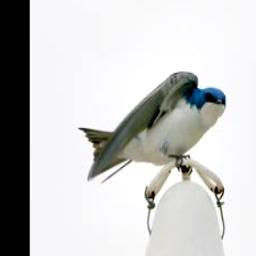Swallow: (77, 70, 227, 187)
